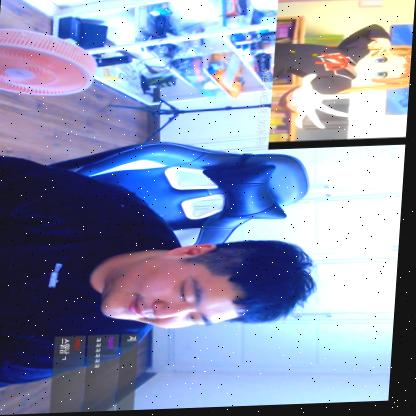donation: (256, 0, 416, 153)
streamer: (0, 145, 326, 389)
